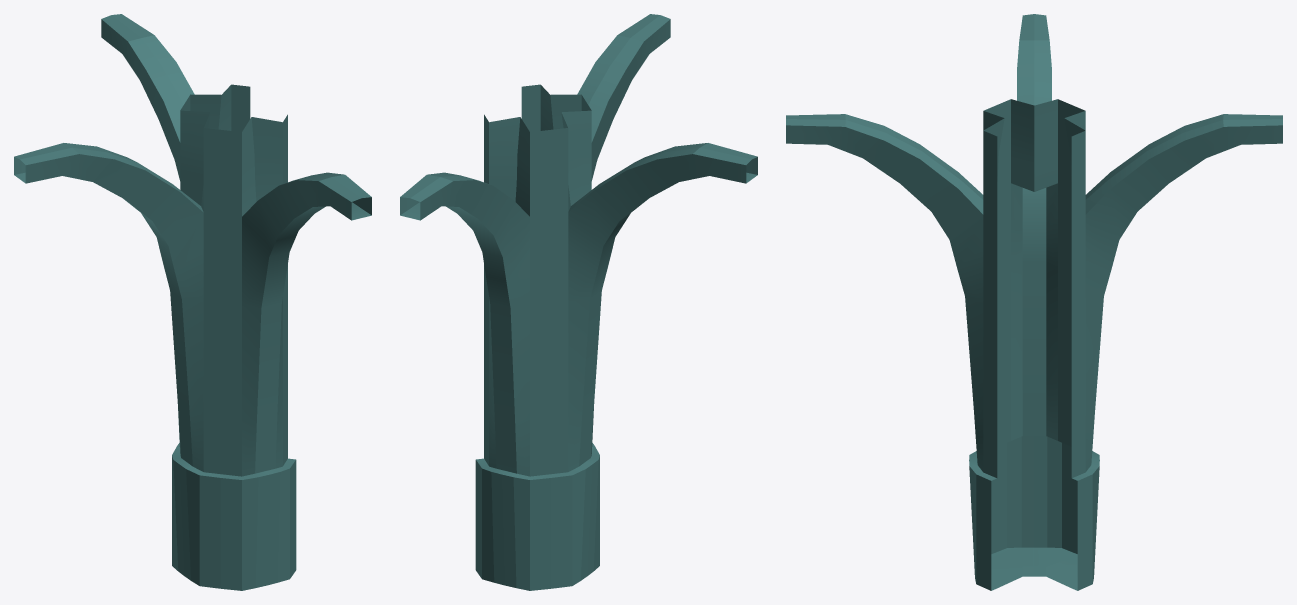
File: Arch_Tri_NoWall.fbx
3 renders of one model, left to right at view 1: azimuth 30°, elevation 25°; view 2: azimuth 150°, elevation 25°; view 3: azimuth 270°, elevation 25°, orthographic.
Parts seen in each view (by area): view 1: Arch_Tri_NoWall; view 2: Arch_Tri_NoWall; view 3: Arch_Tri_NoWall.
Boxes of the visible parts, <box> form: Arch_Tri_NoWall: <box>14,14,371,590</box>; Arch_Tri_NoWall: <box>400,14,757,590</box>; Arch_Tri_NoWall: <box>786,14,1282,590</box>.
Size of the model in its own units: 235 by 404 by 400.
